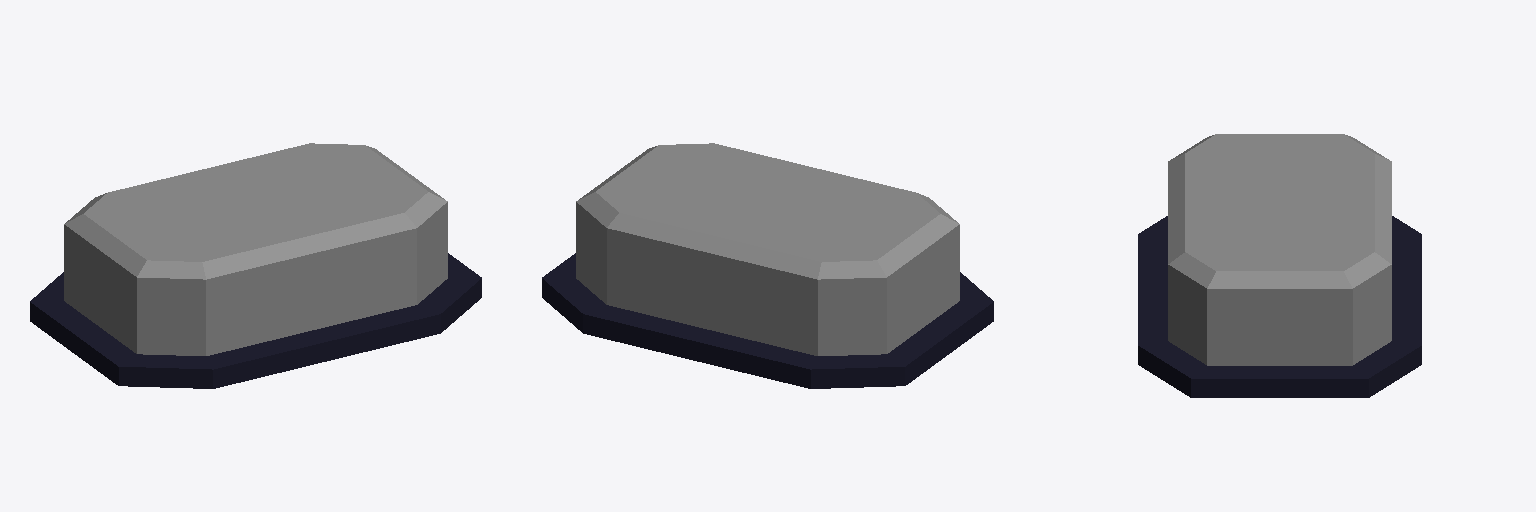
File: redbutton.obj
3 renders of one model, left to right at view 1: azimuth 30°, elevation 25°; view 2: azimuth 150°, elevation 25°; view 3: azimuth 270°, elevation 25°, orthographic.
Visible parts, largest first — view 1: Box001; view 2: Box001; view 3: Box001.
Part boxes in pixels (x1,y1,x2,y2): Box001: (30, 143, 481, 388); Box001: (542, 143, 993, 388); Box001: (1138, 134, 1421, 397).
Size of the model in its own units: 74.33 by 20.82 by 50.34.